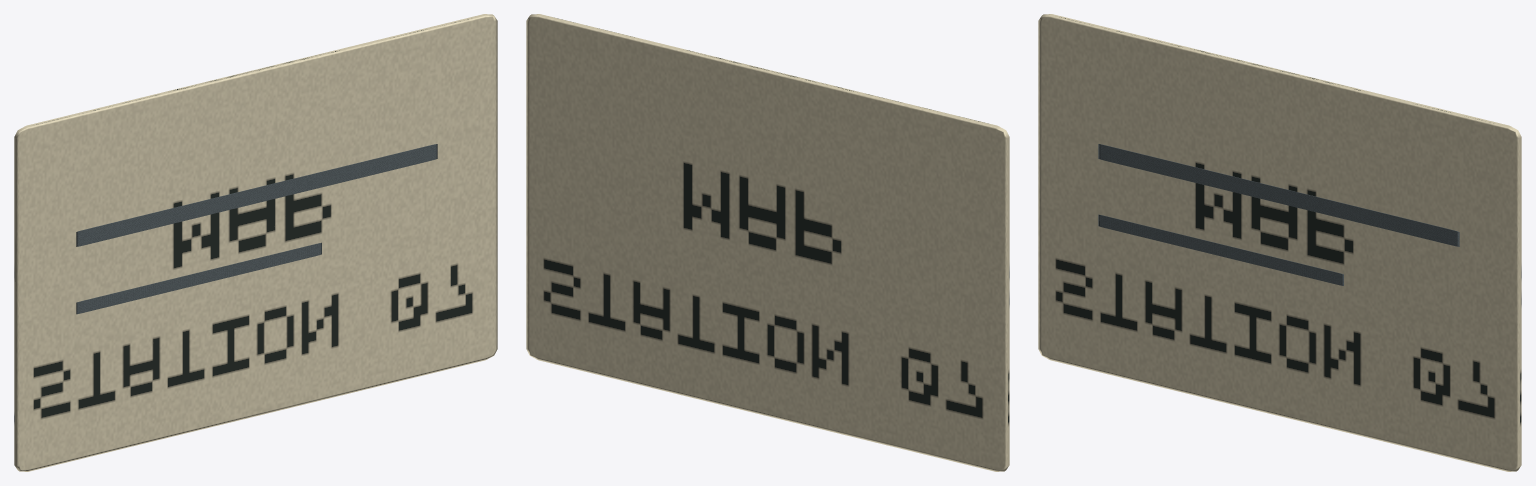
File: map.glb
3 renders of one model, left to right at view 1: azimuth 30°, elevation 25°; view 2: azimuth 150°, elevation 25°; view 3: azimuth 330°, elevation 25°, orthographic.
Visible parts, largest first — view 1: board, stripe, line; view 2: board; view 3: board, stripe, line.
Boxes of the visible parts, box(x1,y1,x2,y2) form: board: box(14, 14, 497, 471); stripe: box(76, 144, 437, 246); line: box(76, 242, 321, 314); board: box(526, 14, 1009, 471); board: box(1038, 14, 1521, 471); stripe: box(1098, 144, 1459, 246); line: box(1098, 214, 1343, 285).
Bounding box in the file's own units: 0.76 × 0.52 × 0.00544.
2 materials, 2 textured.
